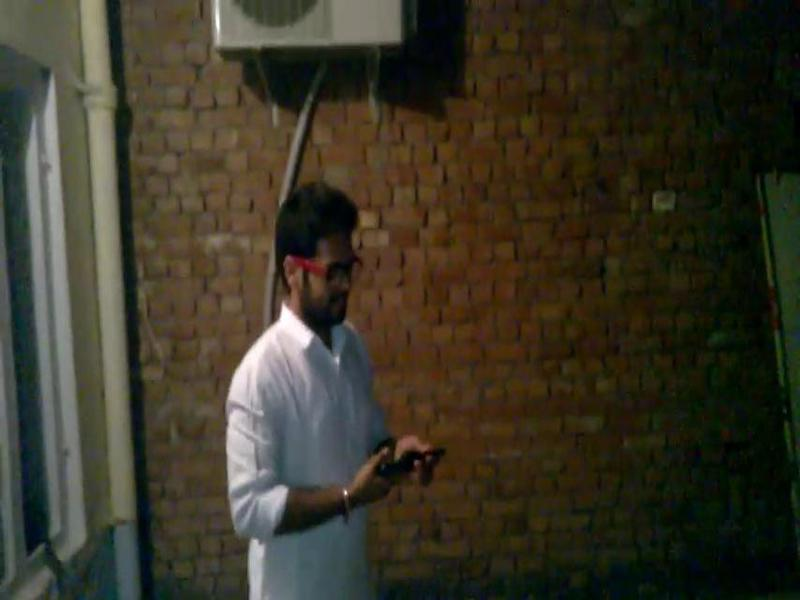Revolver: (343, 439, 449, 491)
